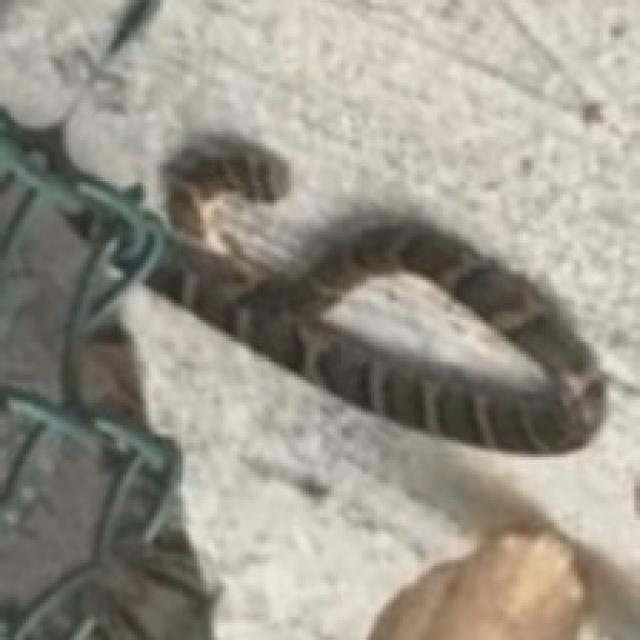king cobra: (0, 111, 603, 451)
